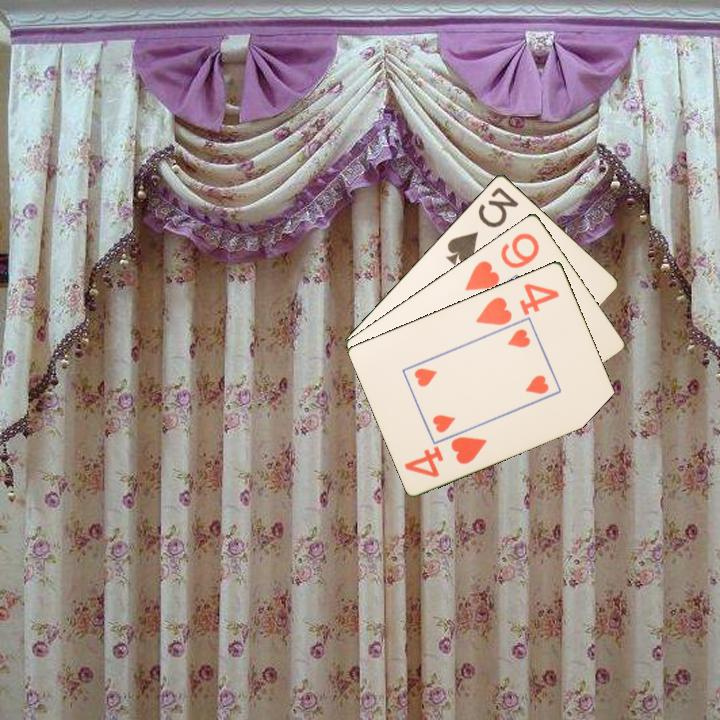3s: (442, 183, 522, 268)
4h: (472, 279, 562, 328), (401, 432, 490, 480)
9h: (461, 229, 543, 293)
